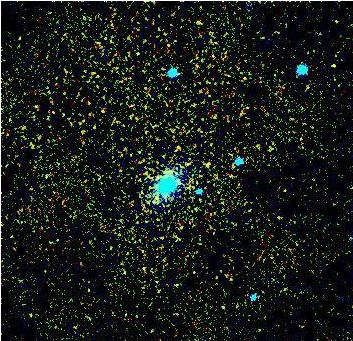star: (160, 167, 190, 197)
